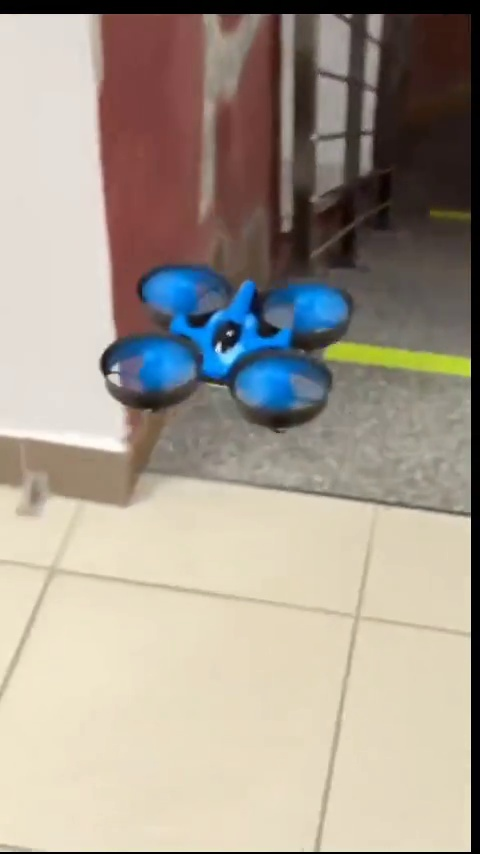drone: (99, 264, 345, 428)
